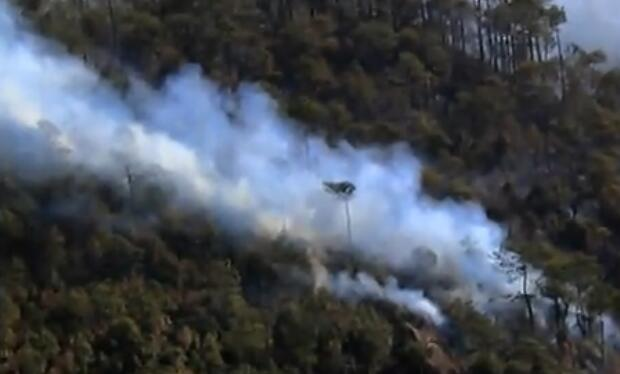yanwu: (1, 0, 346, 250), (334, 180, 597, 344)
